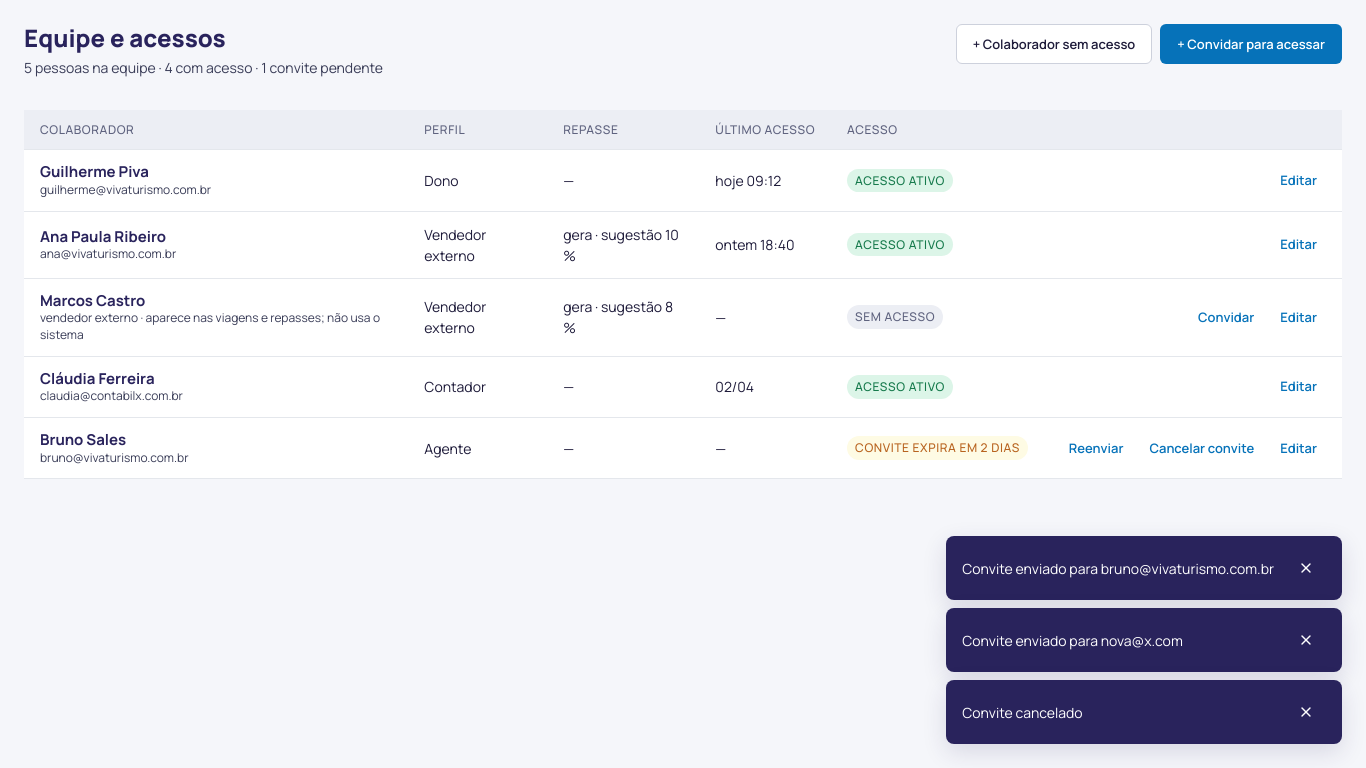
422 ja_tem_acesso ao cancelar convite mostra o erro num toast
Check: the text "Bruno Sales" is shown, box x1=40 y1=429 x2=126 y2=450
Click the button "Cancelar convite" at (1202,448), box x1=1140 y1=431 x2=1263 y2=465
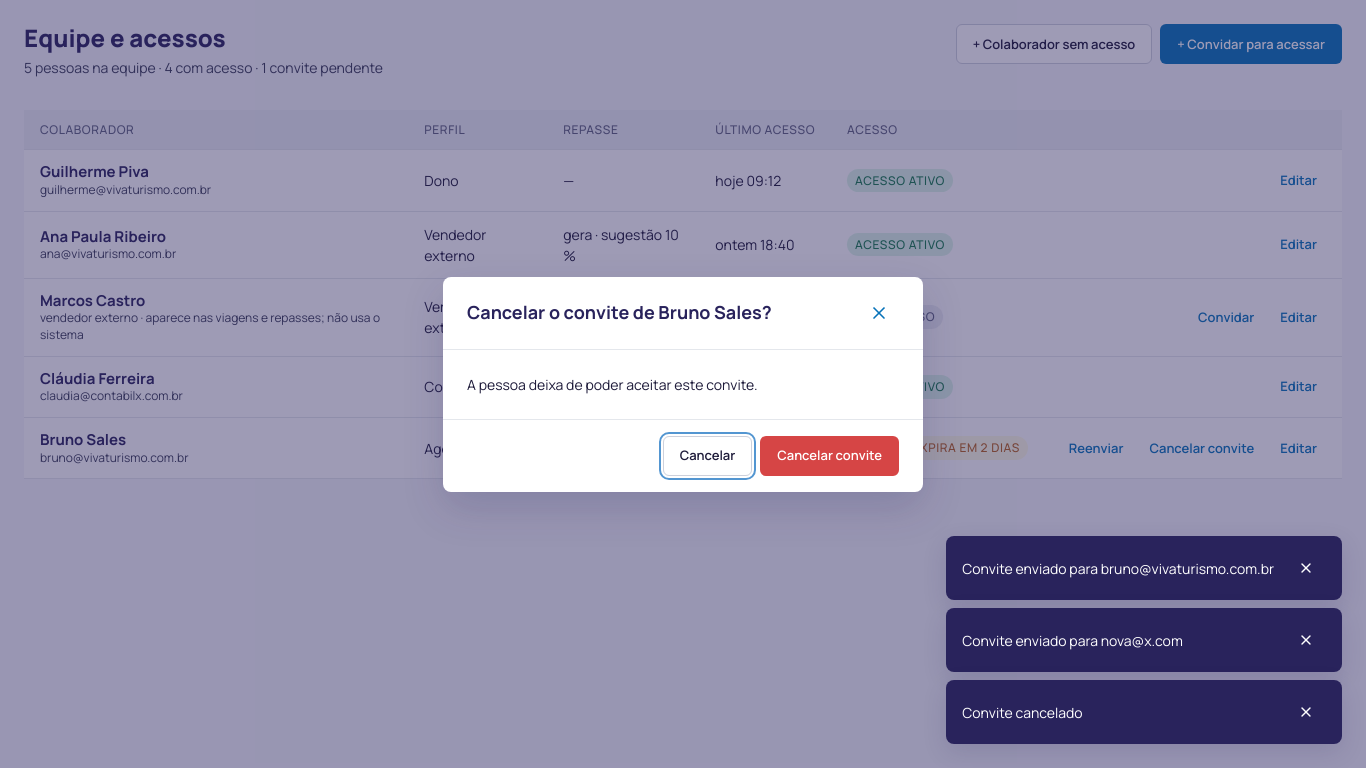
Click the button "Cancelar convite" at (830,456), box x1=760 y1=436 x2=899 y2=476
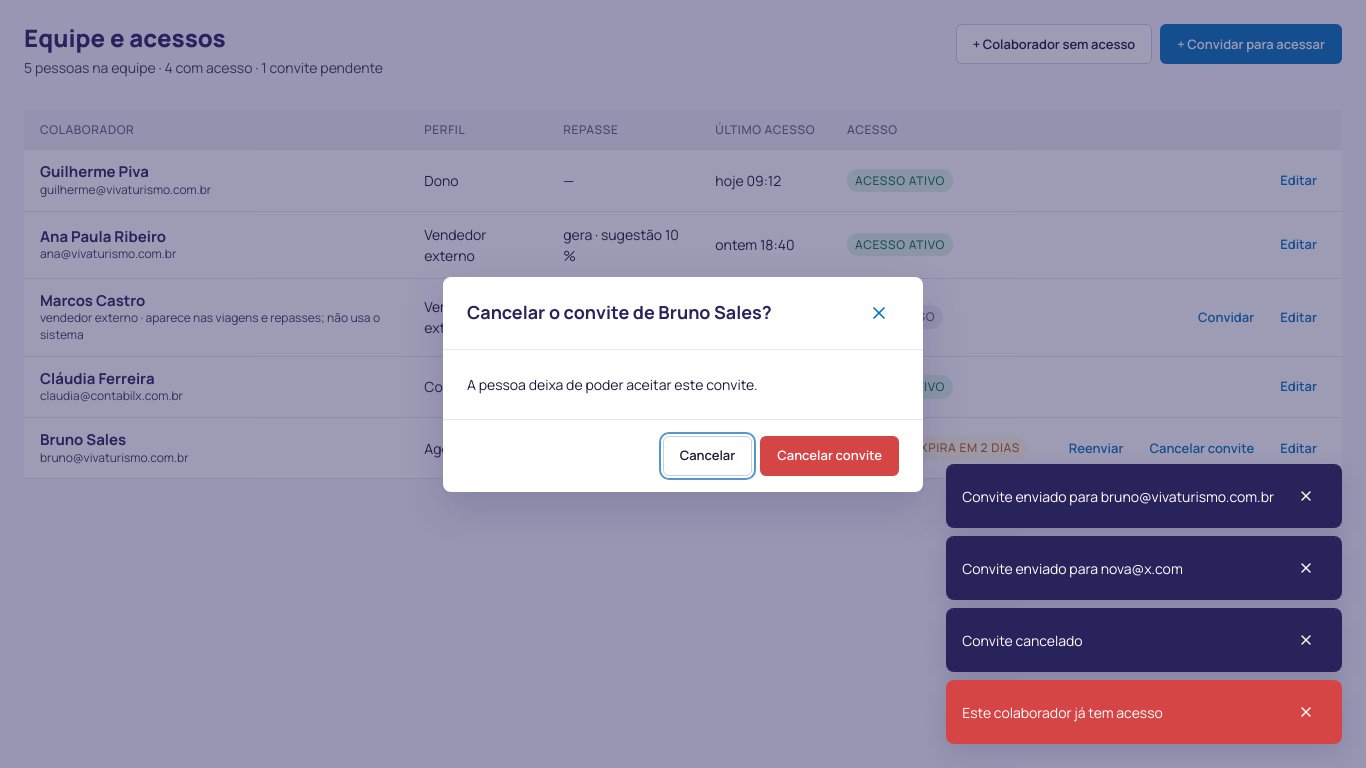
Check: the text "Este colaborador já tem acesso" is shown, box x1=962 y1=702 x2=1163 y2=722
